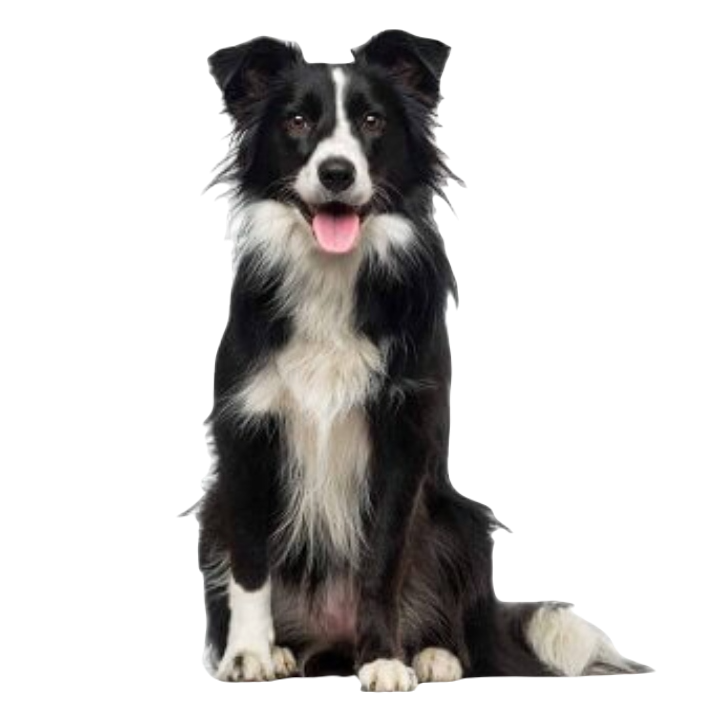Dog: (164, 28, 653, 693)
